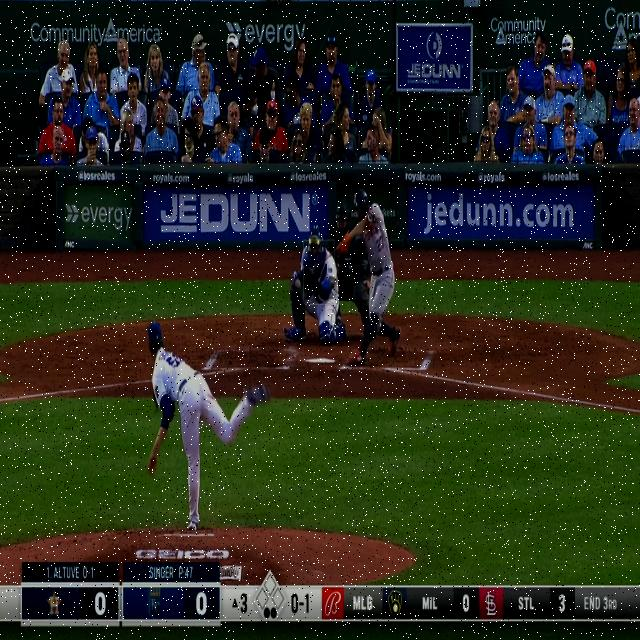baseball: (295, 278, 300, 288)
